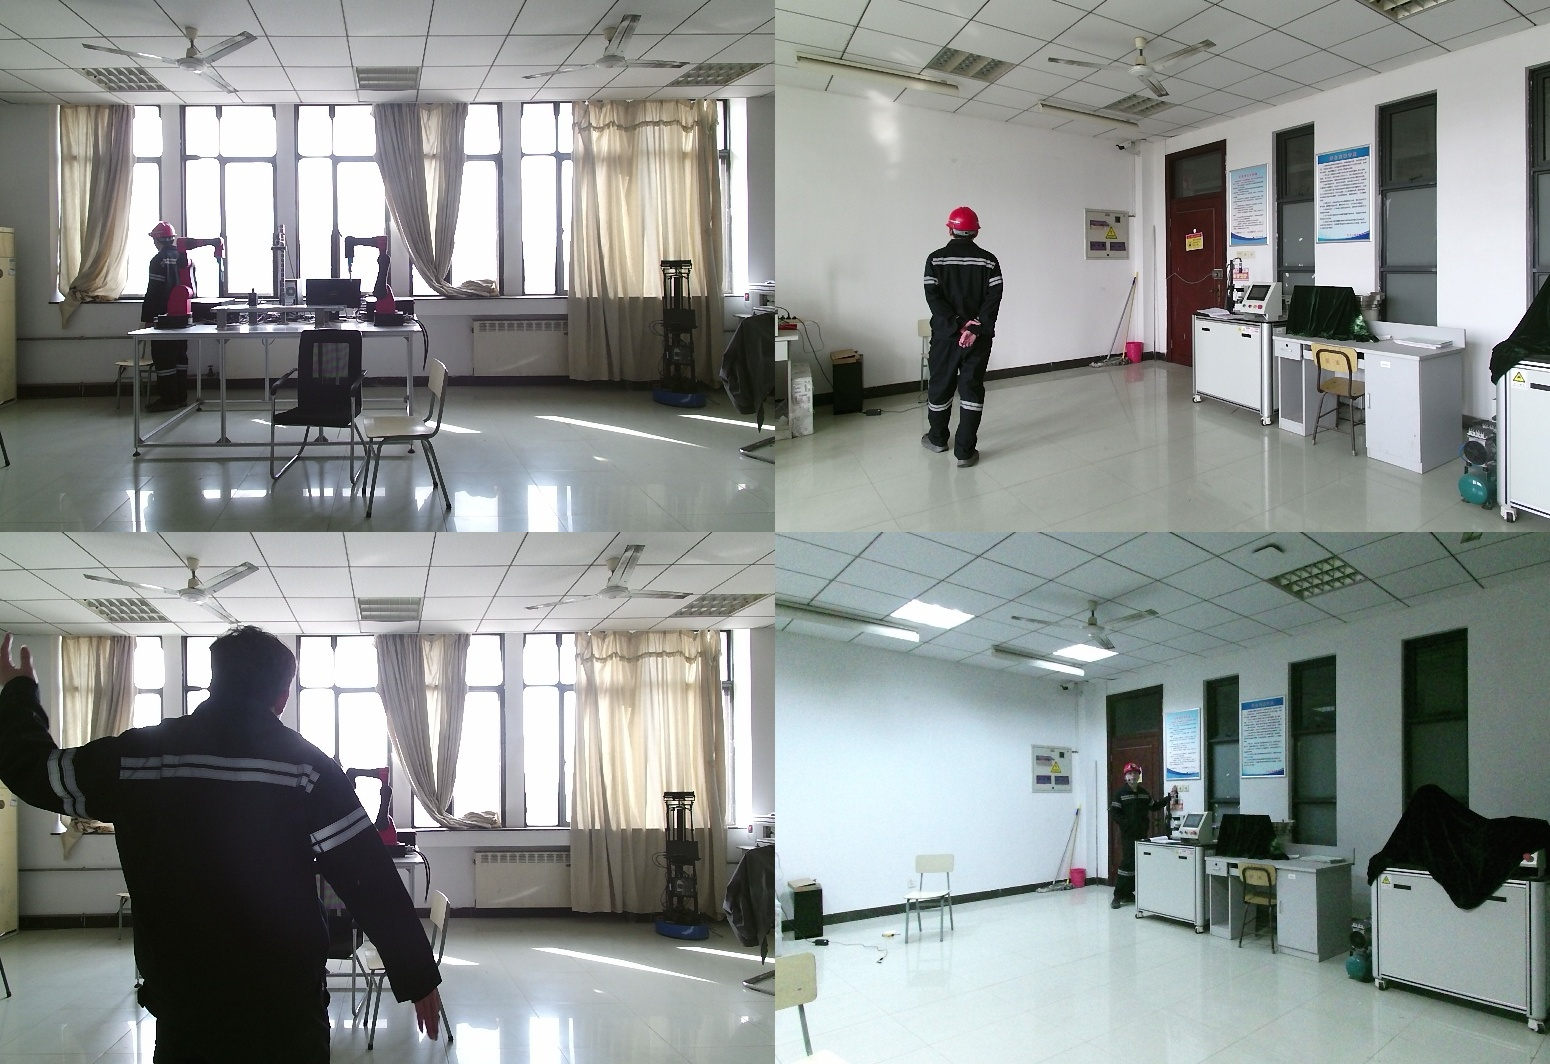person: (1, 629, 451, 1064), (918, 209, 1016, 466), (140, 222, 190, 423), (1107, 763, 1170, 912)
